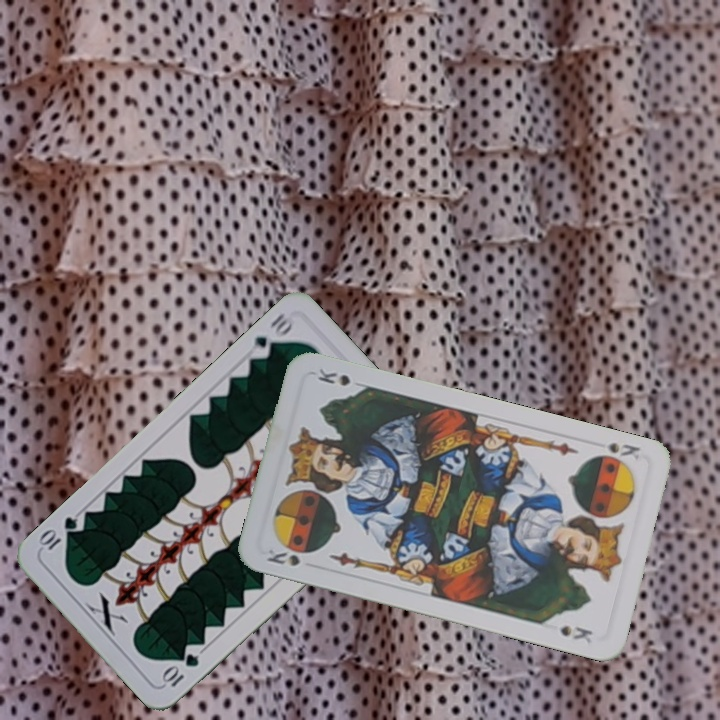G10: (245, 309, 298, 362), (158, 649, 202, 690)
SK: (588, 438, 643, 468), (262, 545, 303, 569)
